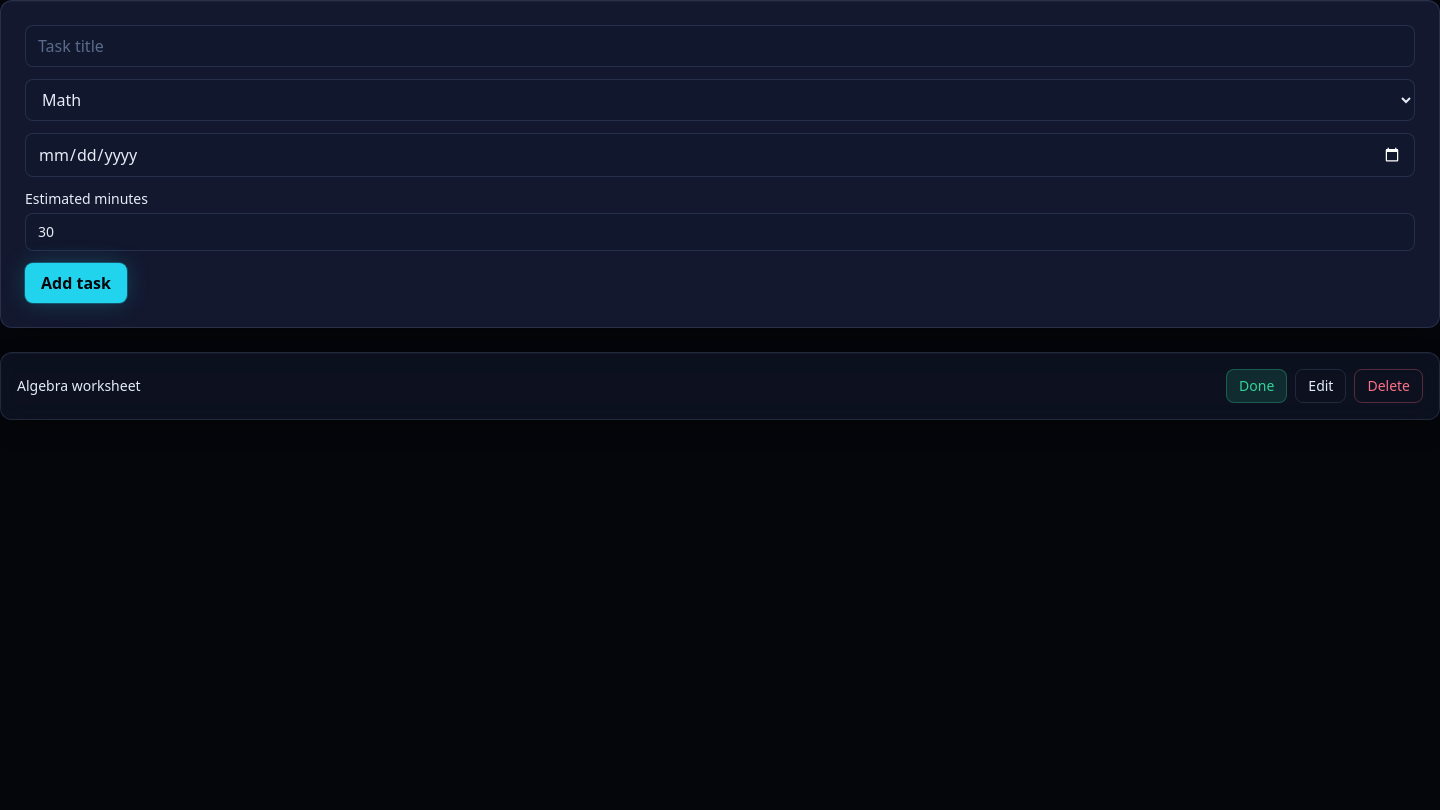
Test: TaskList › shows an error message when saving an edit fails
The width and height of the screenshot is (1440, 810).
Click the button with aria-label "edit algebra worksheet".
click(1321, 386)  # box top-left (1295, 369), bottom-right (1346, 403)
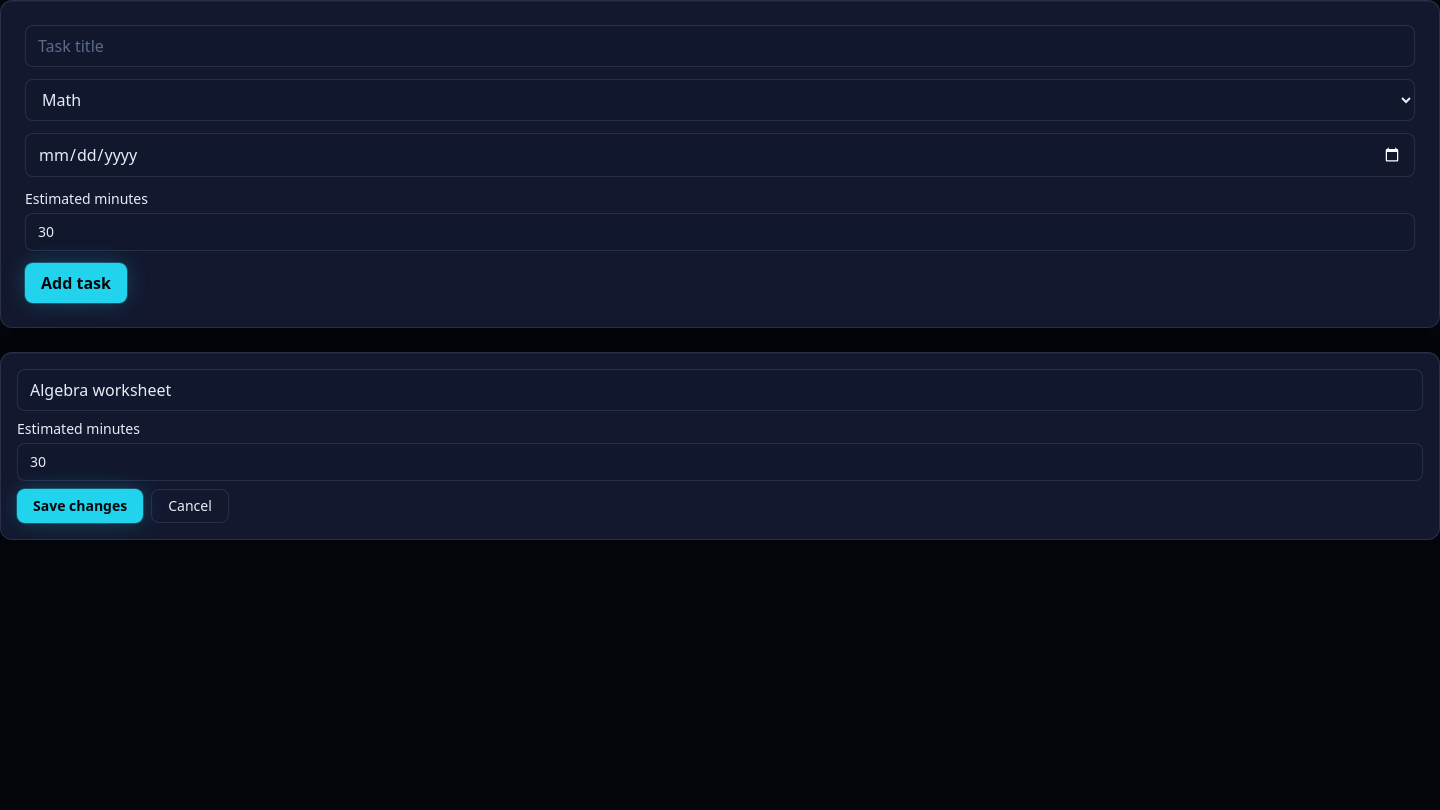
Click the button "Save changes".
click(80, 506)  # box top-left (17, 489), bottom-right (143, 523)
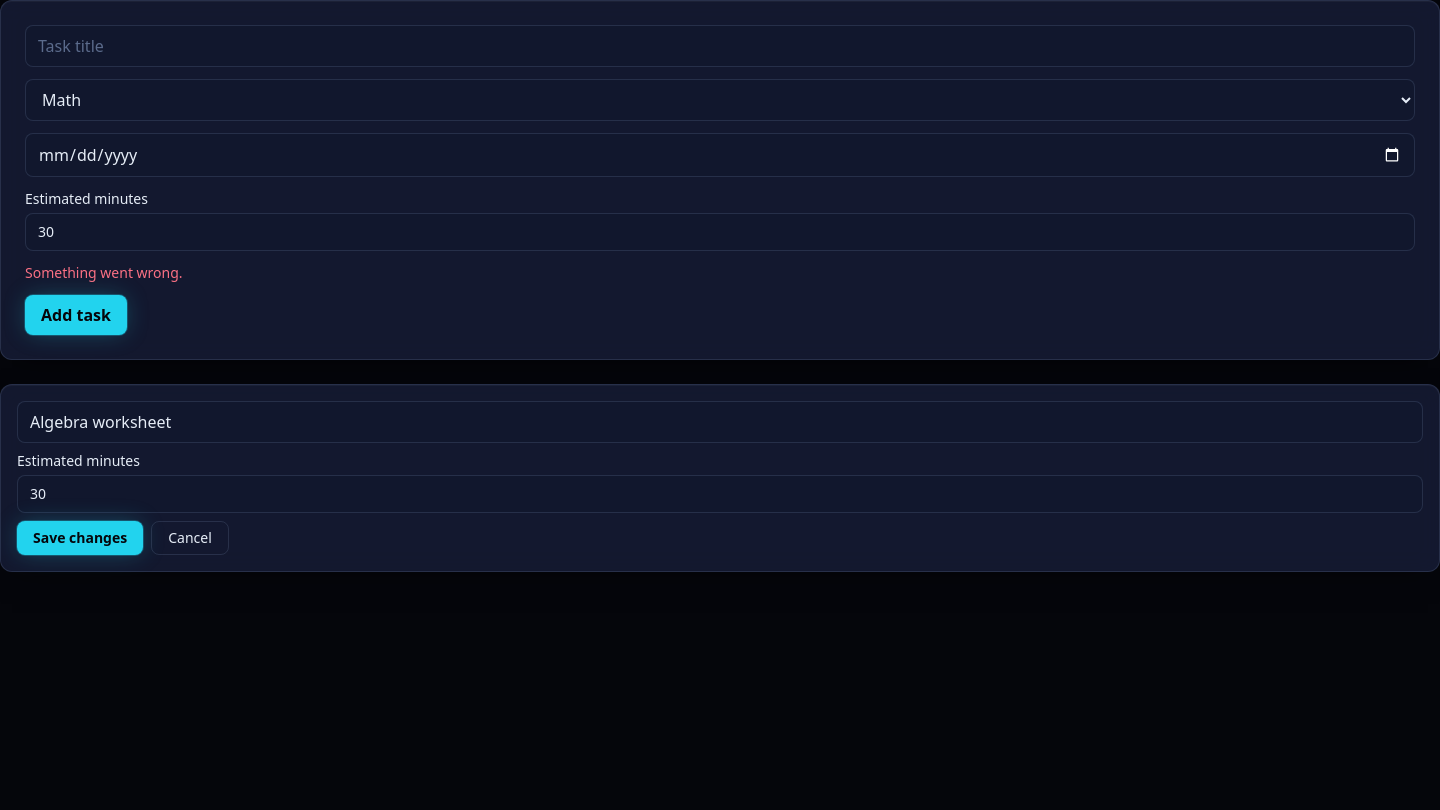
Result: the text "Something went wrong." is shown at top-left (25, 263), bottom-right (183, 282)
